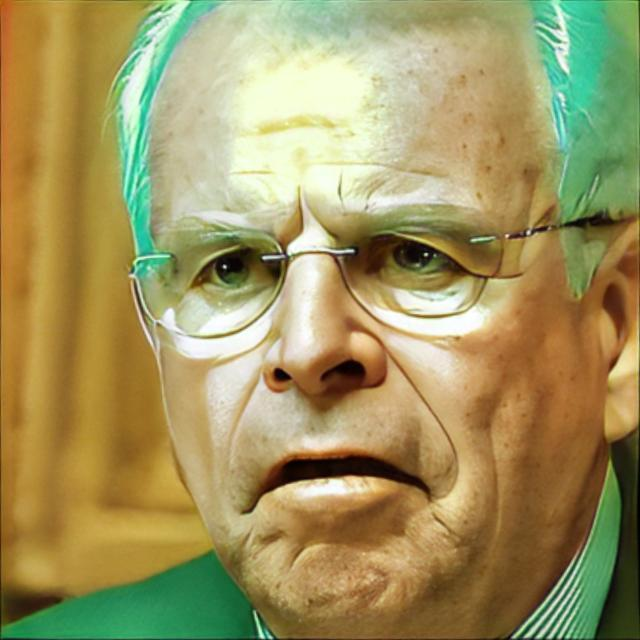anger: (142, 62, 602, 630)
